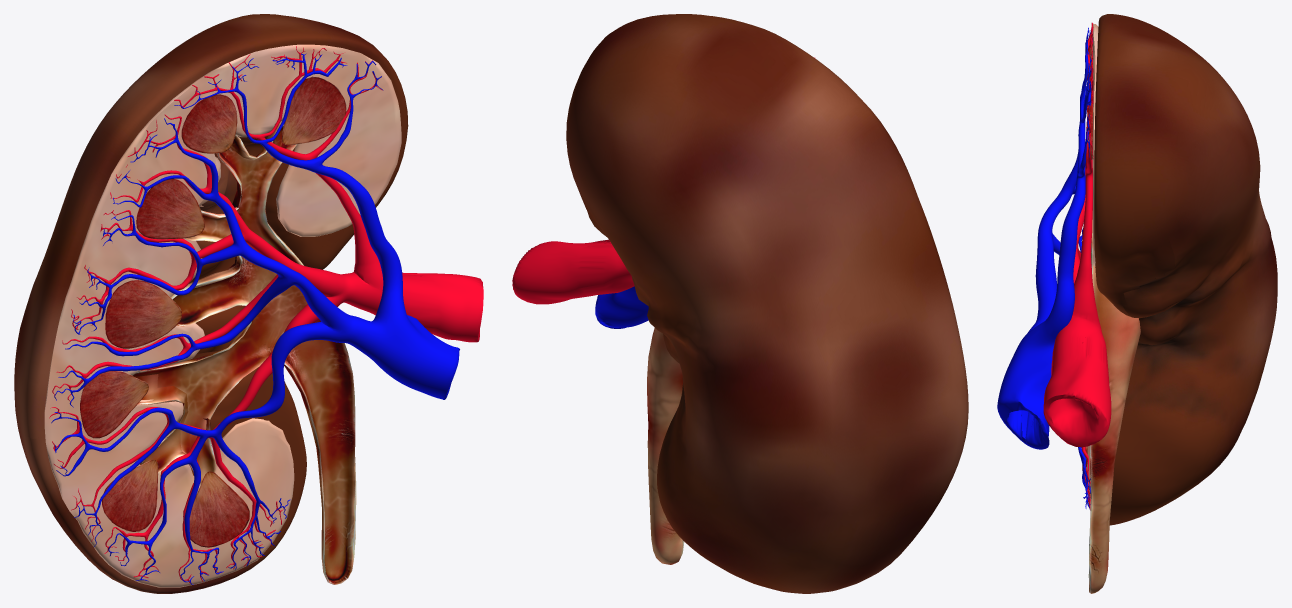
The model's file is ginjal baru.fbx.
3 renders of one model, left to right at view 1: azimuth 30°, elevation 25°; view 2: azimuth 150°, elevation 25°; view 3: azimuth 270°, elevation 25°, orthographic. The views are drawn at different scales.
Parts seen in each view (by area): view 1: Maya_2018:Cortex, Maya_2018:Capsule, Maya_2018:Ureter, Maya_2018:BLUE, Maya_2018:Medulla pyramid, Maya_2018:RED; view 2: Maya_2018:Capsule, Maya_2018:RED, Maya_2018:Ureter, Maya_2018:BLUE; view 3: Maya_2018:Capsule, Maya_2018:BLUE, Maya_2018:RED, Maya_2018:Ureter, Maya_2018:Cortex.
Part boxes in pixels (bbox=[...]): Maya_2018:Cortex: bbox=[44, 44, 401, 587]; Maya_2018:Capsule: bbox=[14, 14, 408, 593]; Maya_2018:Ureter: bbox=[132, 121, 356, 584]; Maya_2018:BLUE: bbox=[51, 53, 459, 584]; Maya_2018:Medulla pyramid: bbox=[80, 76, 346, 547]; Maya_2018:RED: bbox=[49, 46, 483, 583]; Maya_2018:Capsule: bbox=[566, 14, 968, 593]; Maya_2018:RED: bbox=[512, 57, 814, 304]; Maya_2018:Ureter: bbox=[647, 328, 684, 564]; Maya_2018:BLUE: bbox=[595, 286, 648, 328]; Maya_2018:Capsule: bbox=[1094, 14, 1277, 525]; Maya_2018:BLUE: bbox=[997, 27, 1092, 509]; Maya_2018:RED: bbox=[1043, 22, 1111, 509]; Maya_2018:Ureter: bbox=[1088, 211, 1140, 593]; Maya_2018:Cortex: bbox=[1086, 24, 1098, 503].
Size of the model in its own units: 419 by 500 by 242.
